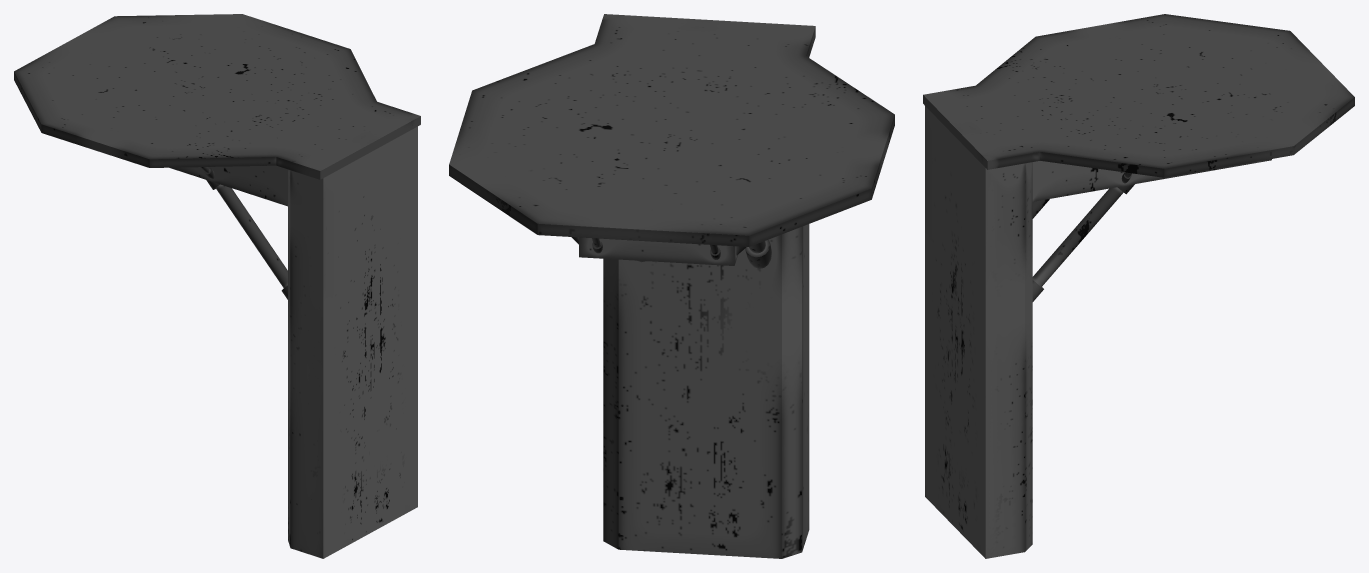
Rendered from Base_Ground_7x3_Cap_Octagonal_V1.fbx.
3 views of the same model, side by side, from view 1: azimuth 30°, elevation 25°; view 2: azimuth 150°, elevation 25°; view 3: azimuth 270°, elevation 25° (orthographic). The views are drawn at different scales.
Parts seen in each view (by area): view 1: Base Ground 7x3 Cap Octagonal V1; view 2: Base Ground 7x3 Cap Octagonal V1; view 3: Base Ground 7x3 Cap Octagonal V1.
Boxes of the visible parts, <box> form: Base Ground 7x3 Cap Octagonal V1: <box>14,14,420,558</box>; Base Ground 7x3 Cap Octagonal V1: <box>449,14,894,558</box>; Base Ground 7x3 Cap Octagonal V1: <box>923,14,1354,558</box>.
Size of the model in its own units: 646 by 778 by 761.
